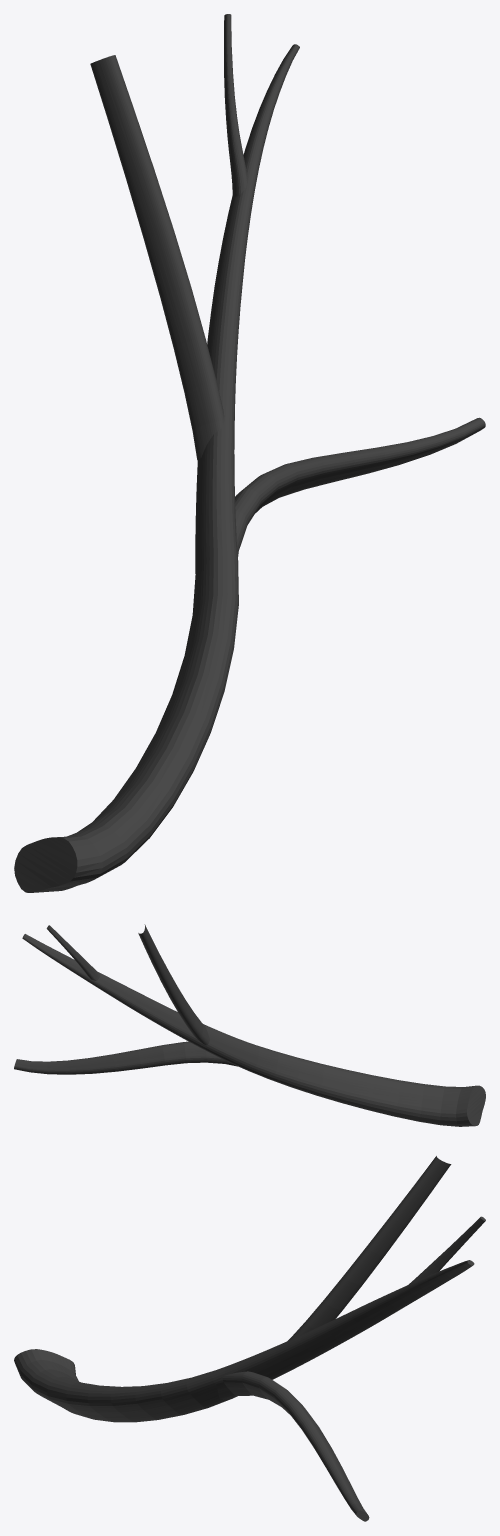
The model's file is N_10_vagus_cranial_laryngeal.glb.
3 renders of one model, top to bottom at view 1: azimuth 30°, elevation 25°; view 2: azimuth 150°, elevation 25°; view 3: azimuth 270°, elevation 25°, orthographic. The views are drawn at different scales.
Visible parts, largest first — view 1: N_10_vagus_cranial_laryngeal; view 2: N_10_vagus_cranial_laryngeal; view 3: N_10_vagus_cranial_laryngeal.
Part boxes in pixels (x1,y1,x2,y2): N_10_vagus_cranial_laryngeal: [14, 14, 485, 892]; N_10_vagus_cranial_laryngeal: [14, 924, 485, 1126]; N_10_vagus_cranial_laryngeal: [14, 1156, 485, 1521].
Size of the model in its own units: 0.00353 by 0.00262 by 0.00321.
Materials: 1 (1 with a texture image).
